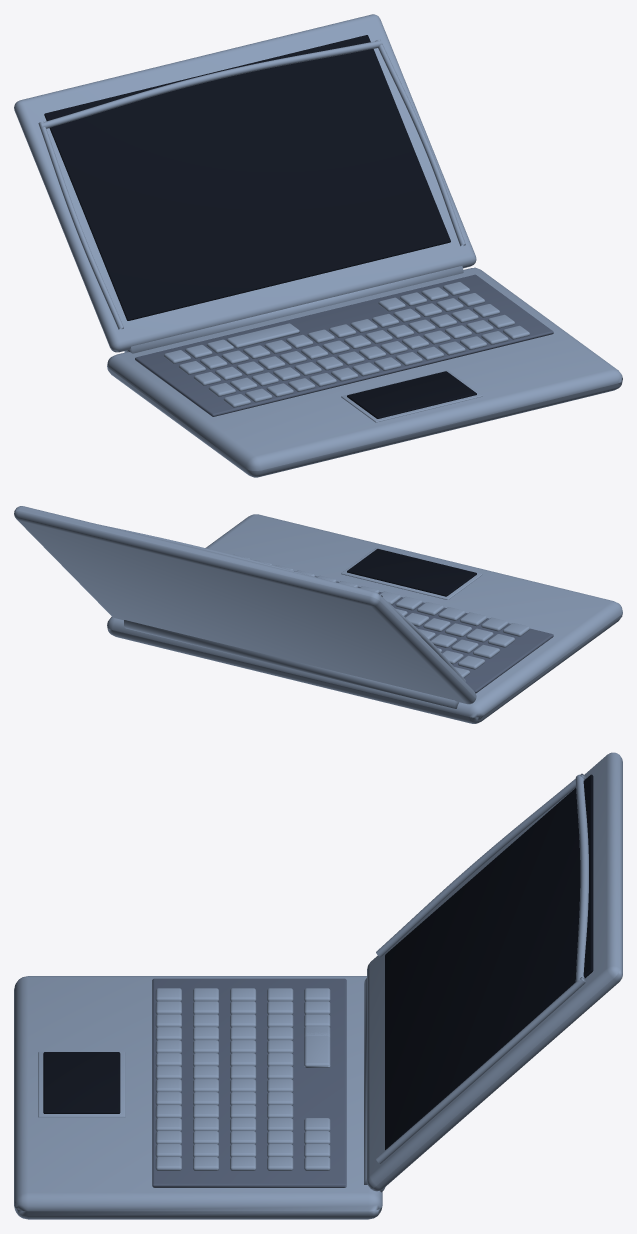
Rendered from laptop-liquid-chrome.glb.
The picture shows the model from 3 angles, top to bottom: view 1: azimuth 30°, elevation 25°; view 2: azimuth 150°, elevation 25°; view 3: azimuth 270°, elevation 25°; orthographic projection. The views are drawn at different scales.
Visible parts, largest first — view 1: Liquid mirror display, Lower shell, Display lid | flowing platinum, Keyboard well, Trackpad | mirror inset, Full-width mirror hinge, Molten bezel crown, Molten bezel side, Molten bezel side.001, Key 5-5, Trackpad | liquid rim; view 2: Display lid | flowing platinum, Lower shell, Trackpad | mirror inset, Keyboard well, Full-width mirror hinge, Trackpad | liquid rim, Molten bezel crown, Molten bezel side; view 3: Lower shell, Liquid mirror display, Keyboard well, Display lid | flowing platinum, Trackpad | mirror inset, Molten bezel side.001, Molten bezel side, Molten bezel crown, Trackpad | liquid rim, Key 5-5, Full-width mirror hinge.
Boxes of the visible parts, x1,y1,x2,y2 form: Liquid mirror display: (44,35,450,320); Lower shell: (107,267,622,477); Display lid | flowing platinum: (14,14,476,352); Keyboard well: (135,274,553,416); Trackpad | mirror inset: (347,371,476,418); Full-width mirror hinge: (124,266,463,353); Molten bezel crown: (41,40,382,128); Molten bezel side: (38,121,123,330); Molten bezel side.001: (375,39,465,246); Key 5-5: (226,323,299,348); Trackpad | liquid rim: (341,370,482,422); Display lid | flowing platinum: (14,506,476,704); Lower shell: (107,514,622,723); Trackpad | mirror inset: (347,549,476,596); Keyboard well: (294,571,553,693); Full-width mirror hinge: (124,620,458,708); Trackpad | liquid rim: (341,548,482,599); Molten bezel crown: (100,524,382,596); Molten bezel side: (380,595,465,681); Lower shell: (14,976,382,1219); Liquid mirror display: (385,774,593,1149); Keyboard well: (152,978,346,1187); Display lid | flowing platinum: (367,752,622,1191); Trackpad | mirror inset: (43,1052,120,1113); Molten bezel side.001: (376,977,585,1163); Molten bezel side: (376,773,585,956); Molten bezel crown: (575,774,588,981); Trackpad | liquid rim: (38,1051,125,1117); Key 5-5: (304,1026,330,1067); Full-width mirror hinge: (364,978,385,1192).
Bounding box in the file's own units: 4.2 × 2.16 × 4.76.
